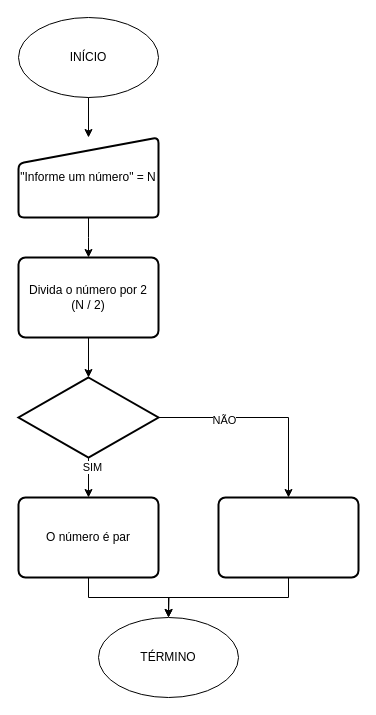
The diagram is 376 pixels wide and 715 high, and some of its shapes have lost their labels. The shapes that lost their labels are listed below. From the top down, each one's centre as x and y in pixels, then its label:
At (88,417): "O resto da divisão por dois foi zero?".
At (288,537): "O número é ímpar".
